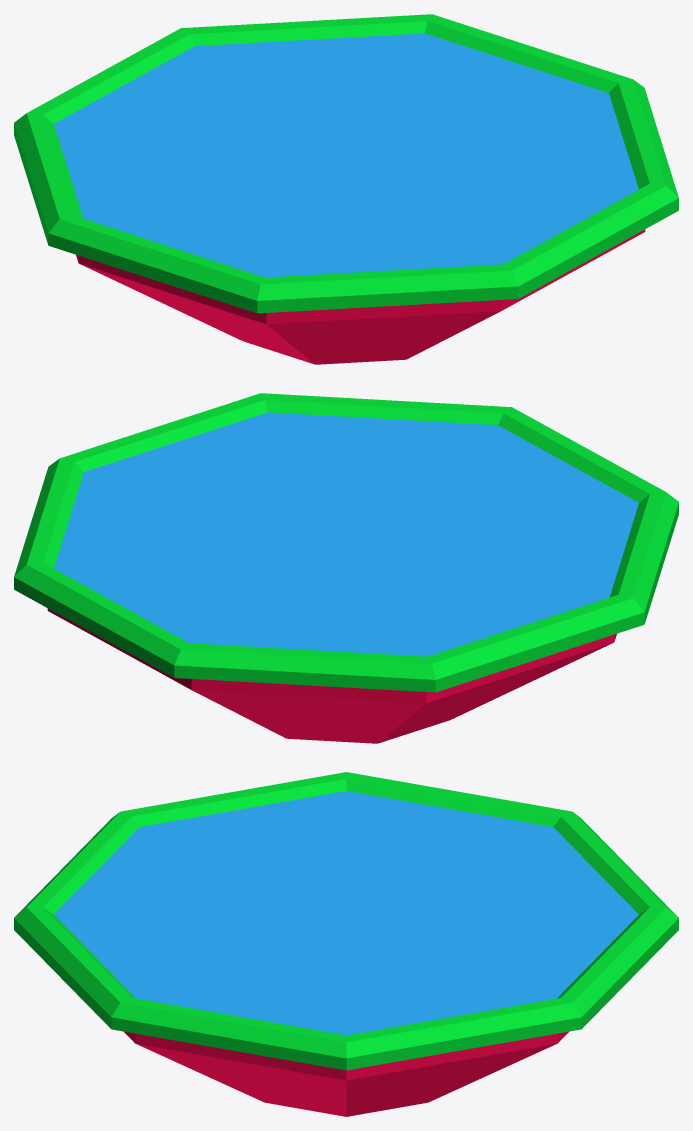
The model's file is FloatingPlatform.fbx.
3 views of the same model, one above another, from view 1: azimuth 30°, elevation 25°; view 2: azimuth 150°, elevation 25°; view 3: azimuth 270°, elevation 25° (orthographic). The views are drawn at different scales.
Parts seen in each view (by area): view 1: Circle.013; view 2: Circle.013; view 3: Circle.013.
Part boxes in pixels (x1,y1,x2,y2): Circle.013: (14, 14, 678, 364); Circle.013: (14, 393, 678, 743); Circle.013: (14, 772, 678, 1116).
Size of the model in its own units: 4913 by 1311 by 4913.
